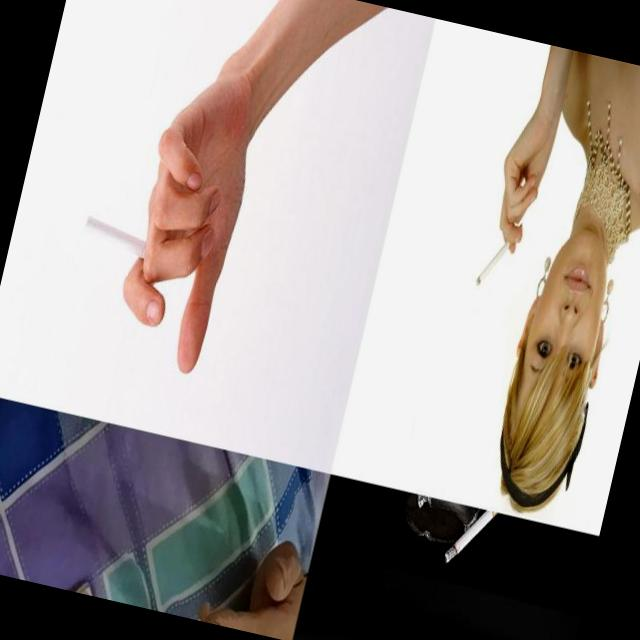smoke: (74, 211, 171, 282), (439, 503, 516, 582), (475, 214, 524, 294)
